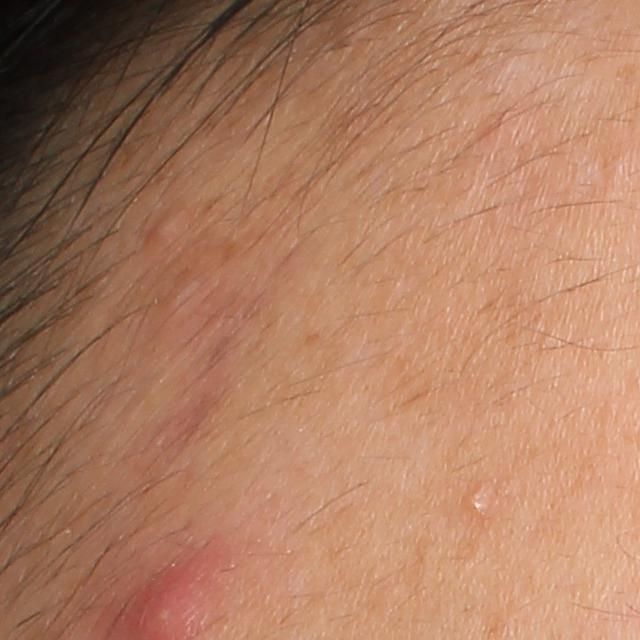comedo: (467, 486, 497, 519)
papule: (159, 278, 202, 329), (150, 215, 181, 249)
